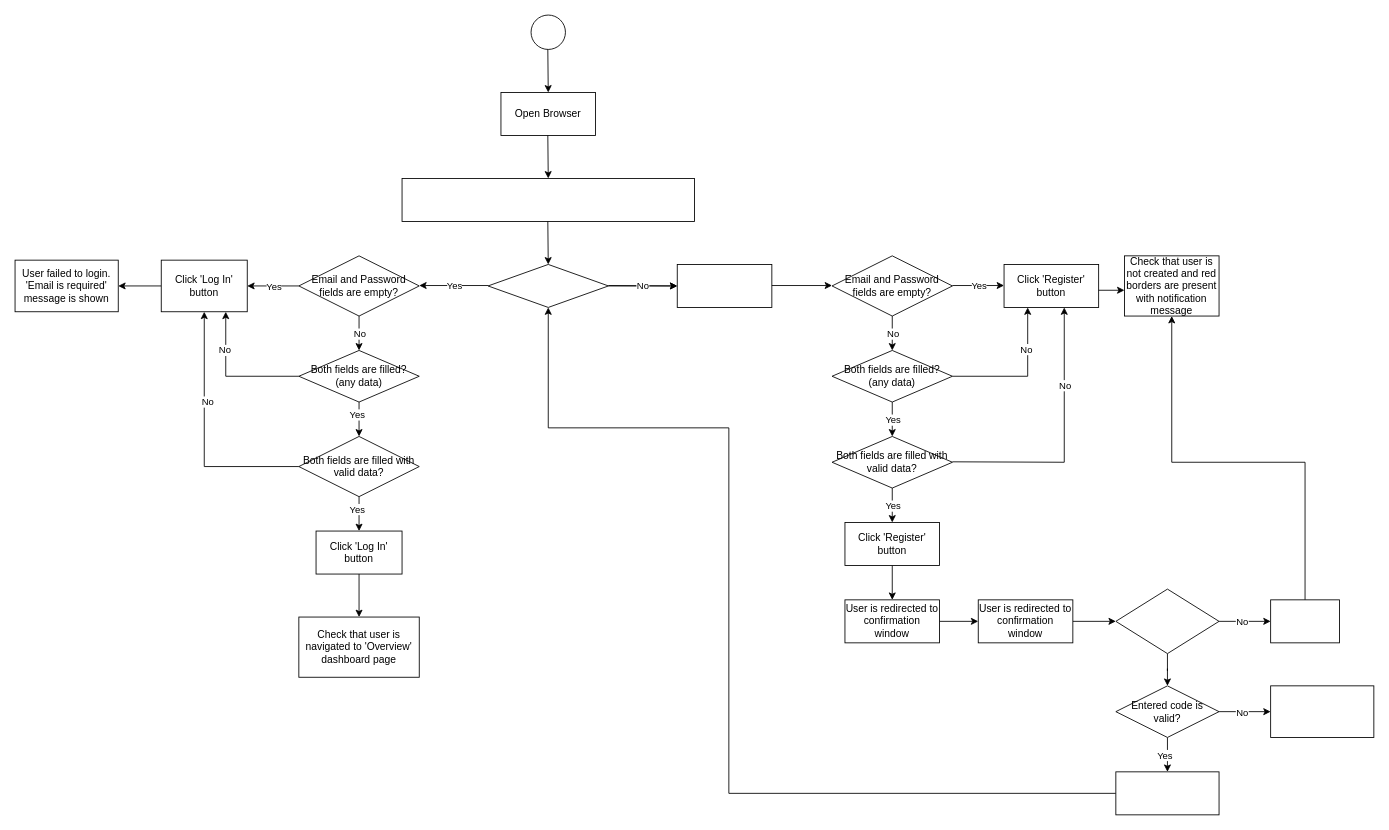
Image size: 1389x830. Some labels were removed from this diagram. The shapes that lost their labels are listed below. From the top down, each one's centre as x and y in pixels, then its label:
At point (547, 199): "Open website https://material-kit-pro-react.devias.io/dashboard/customers".
At point (547, 285): "User is registered?".
At point (724, 285): "Click 'Register' highlighted button (with URL)".
At point (1167, 621): "Verification code is entered?".
At point (1304, 621): "Click 'Confirm' button".
At point (1322, 711): "'Invalid verification code provided, please try again.' is shown".
At point (1167, 793): "User is created".
